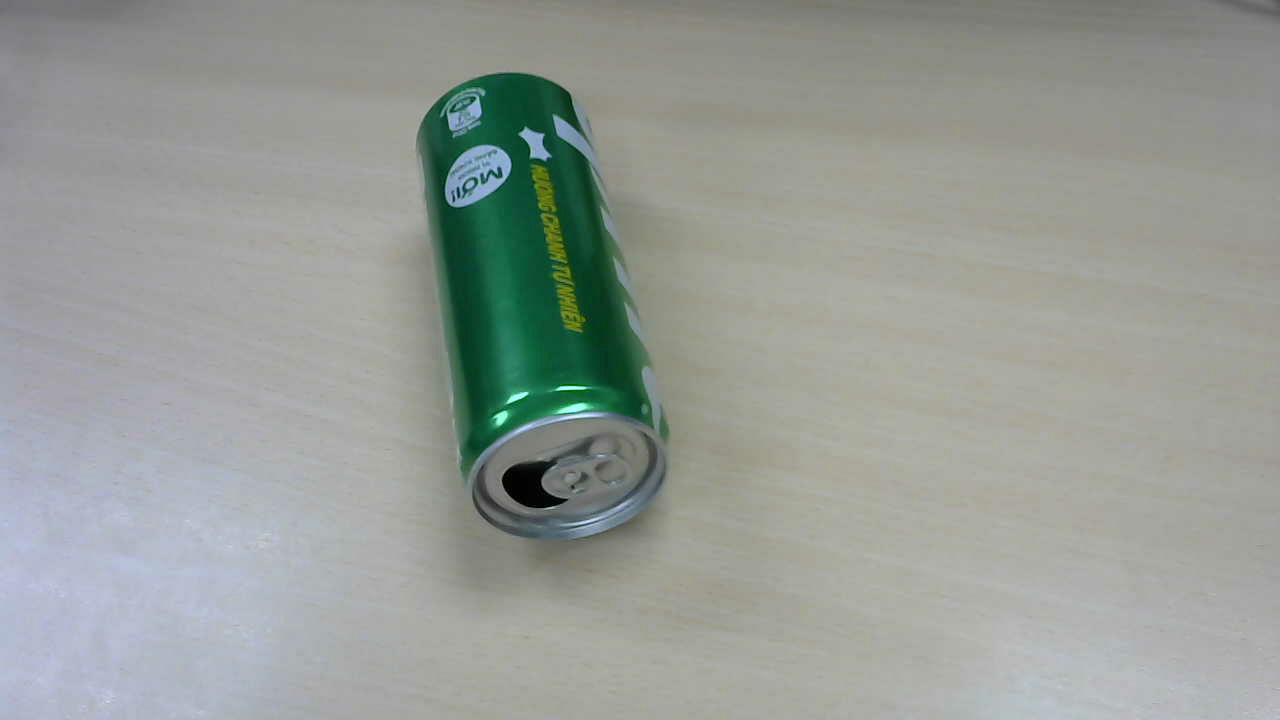Sprite: (415, 62, 688, 549)
